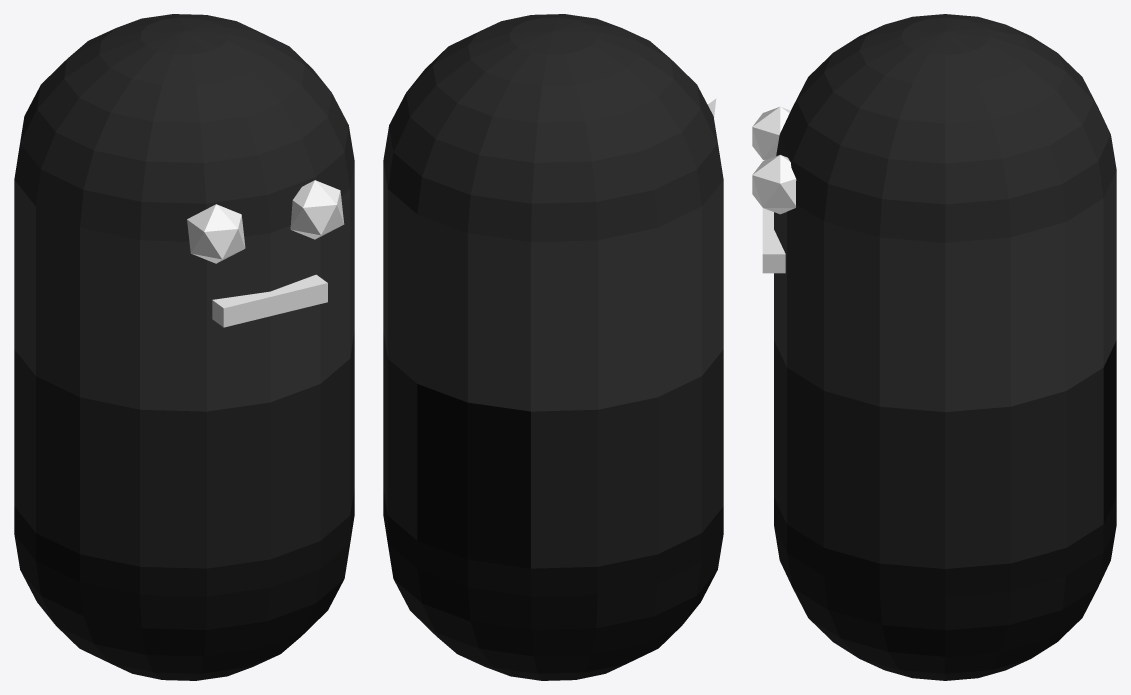
The model's file is Enemy.fbx.
3 renders of one model, left to right at view 1: azimuth 30°, elevation 25°; view 2: azimuth 150°, elevation 25°; view 3: azimuth 270°, elevation 25°, orthographic.
Visible parts, largest first — view 1: Sphere; view 2: Sphere; view 3: Sphere.
Boxes of the visible parts, x1,y1,x2,y2 form: Sphere: (14,14,354,680); Sphere: (383,14,723,680); Sphere: (752,14,1116,680).
Size of the model in its own units: 83.42 by 170 by 88.68.
1 material, 1 textured.
